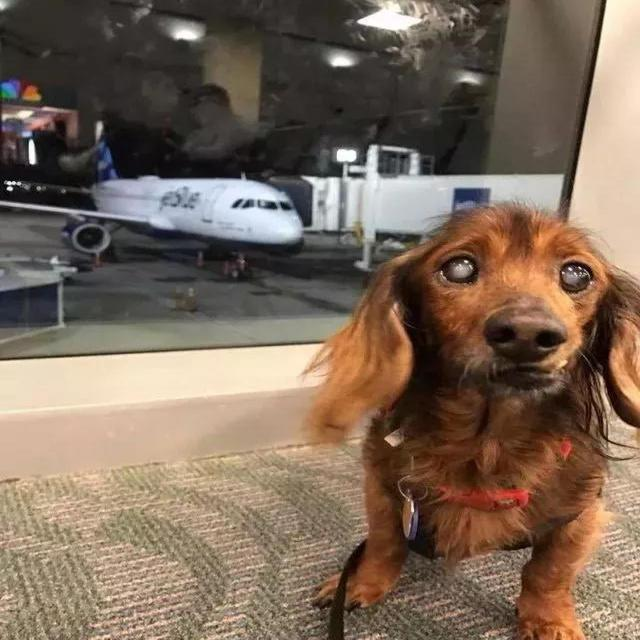eye: (428, 248, 483, 289), (554, 257, 599, 298)
